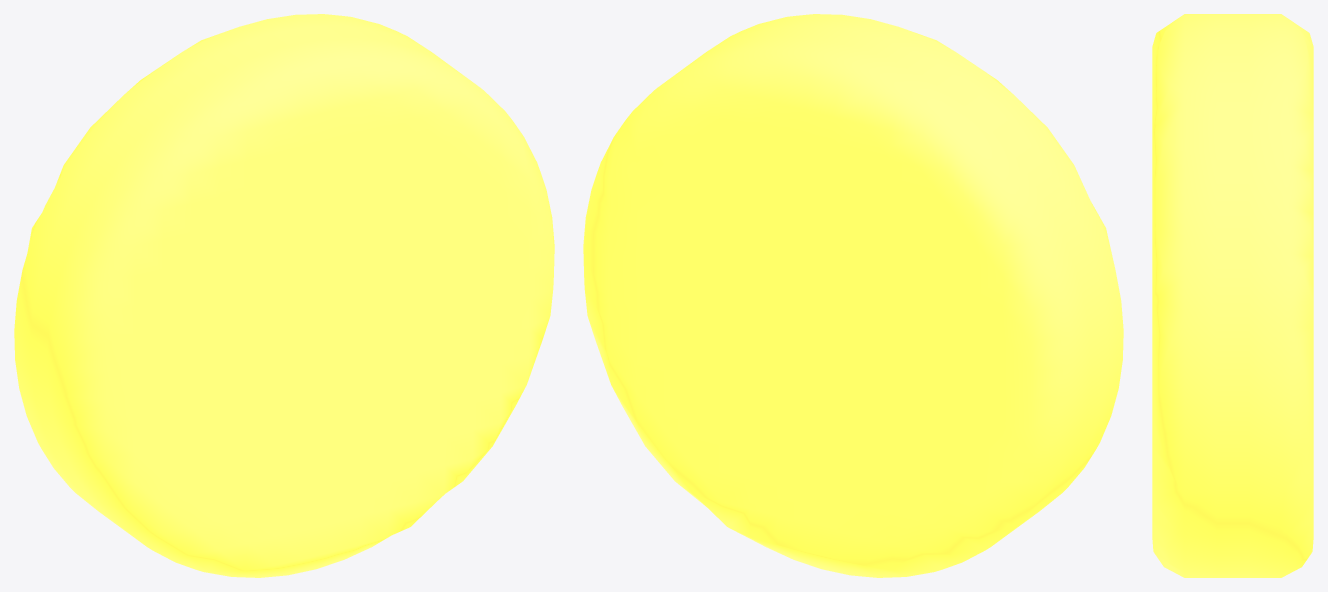
Rendered from 015_front_status_indicator.glb.
3 views of the same model, side by side, from view 1: azimuth 30°, elevation 25°; view 2: azimuth 150°, elevation 25°; view 3: azimuth 270°, elevation 25° (orthographic).
Visible parts, largest first — view 1: 015 | Front Status Indicator; view 2: 015 | Front Status Indicator; view 3: 015 | Front Status Indicator.
Boxes of the visible parts, x1,y1,x2,y2 form: 015 | Front Status Indicator: [14, 14, 554, 577]; 015 | Front Status Indicator: [583, 14, 1123, 577]; 015 | Front Status Indicator: [1152, 14, 1313, 577].
Bounding box in the file's own units: 0.0014 × 0.0014 × 0.0004.
